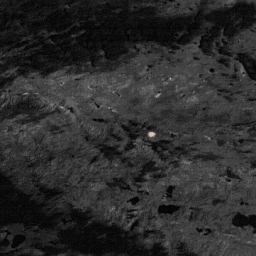Target: (147, 130, 155, 138)
